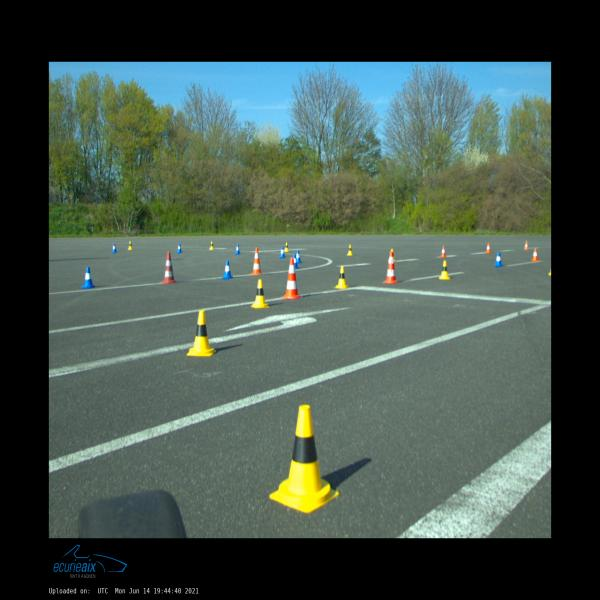blue_cone: (80, 267, 96, 289), (222, 261, 233, 279), (494, 252, 503, 267), (293, 255, 299, 269), (296, 250, 302, 263), (279, 247, 286, 258), (111, 243, 118, 253), (176, 243, 183, 253), (234, 244, 240, 255)
large_orange_cone: (281, 258, 303, 299), (160, 252, 178, 283), (382, 252, 399, 284), (250, 248, 262, 276)
orange_cone: (531, 248, 540, 261), (440, 246, 446, 258), (485, 243, 492, 253), (524, 240, 528, 250)
yellow_cone: (270, 405, 339, 513), (187, 310, 216, 356), (251, 280, 270, 308), (334, 266, 350, 289), (439, 260, 451, 280), (388, 248, 395, 262), (346, 244, 354, 255), (284, 242, 289, 252), (128, 241, 133, 250), (209, 241, 214, 250)
